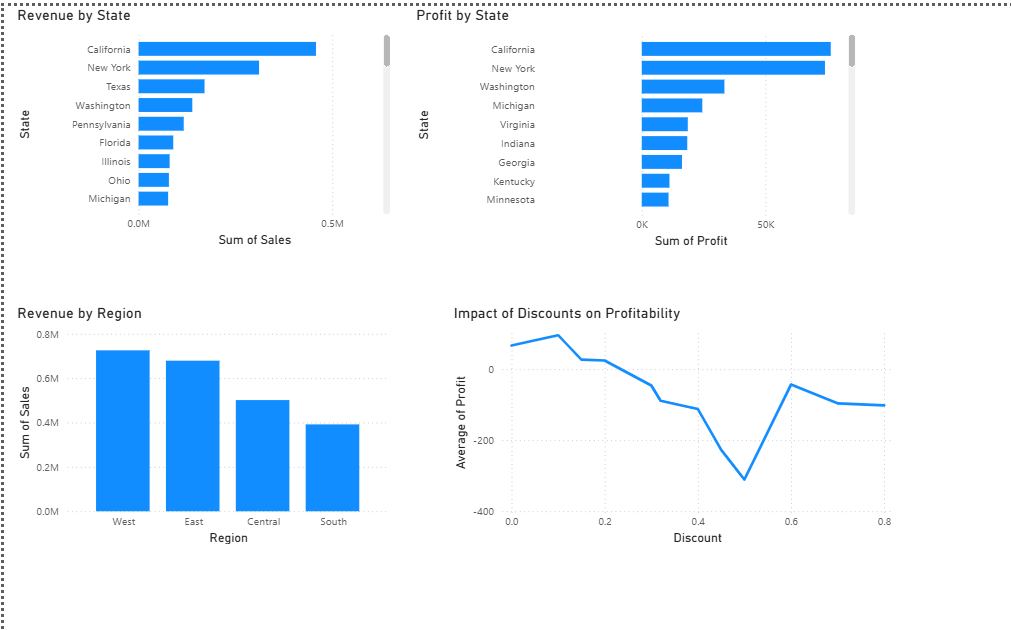

The dashboard page shown, as its layout file describes it:
{"tool":"powerbi","page":{"name":"Regional Performance Analysis","canvas":[1280,720],"ordinal":2},"visuals":[{"type":"clusteredBarChart","title":"Revenue by State","fields":{"Category":["superstore_cleaned.State"],"Y":["Sum(superstore_cleaned.Sales)"]},"box":[10.6,0,438.3,280.9],"z":0},{"type":"clusteredBarChart","title":"Profit by State","fields":{"Category":["superstore_cleaned.State"],"Y":["Sum(superstore_cleaned.Profit)"]},"box":[469.6,0,514.3,282.1],"z":1},{"type":"clusteredColumnChart","title":"Revenue by Region","fields":{"Category":["superstore_cleaned.Region"],"Y":["Sum(superstore_cleaned.Sales)"]},"box":[10.7,342.9,437.5,280.4],"z":2},{"type":"lineChart","title":"Impact of Discounts on Profitability","fields":{"Category":["superstore_cleaned.Discount"],"Y":["Avg(superstore_cleaned.Profit)"]},"box":[512.5,342.9,514.3,280.4],"z":3}]}

Visuals, with their boxes on the page's 1280x720 design canvas (x1, y1, x2, y2). These are canvas units, not pixel positions in the 1011x630 screenshot, which may show the page scaled, cropped or inside an application window:
"Revenue by State" clusteredBarChart: region(11, 0, 449, 281)
"Profit by State" clusteredBarChart: region(470, 0, 984, 282)
"Revenue by Region" clusteredColumnChart: region(11, 343, 448, 623)
"Impact of Discounts on Profitability" lineChart: region(512, 343, 1027, 623)
